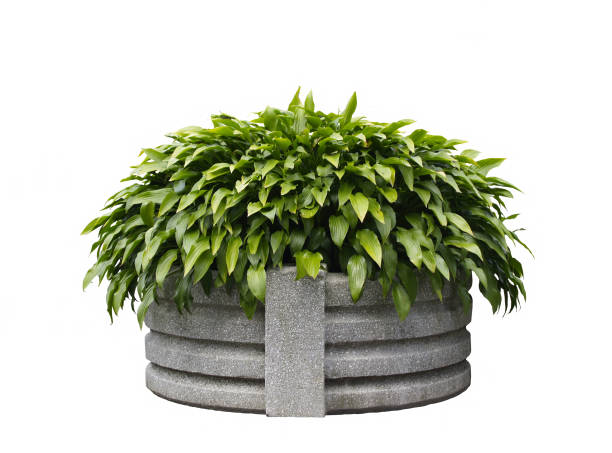potted plant: (52, 88, 546, 418)
